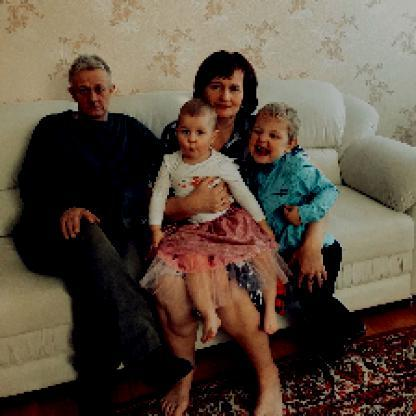child: (139, 100, 282, 345), (252, 101, 369, 376)
